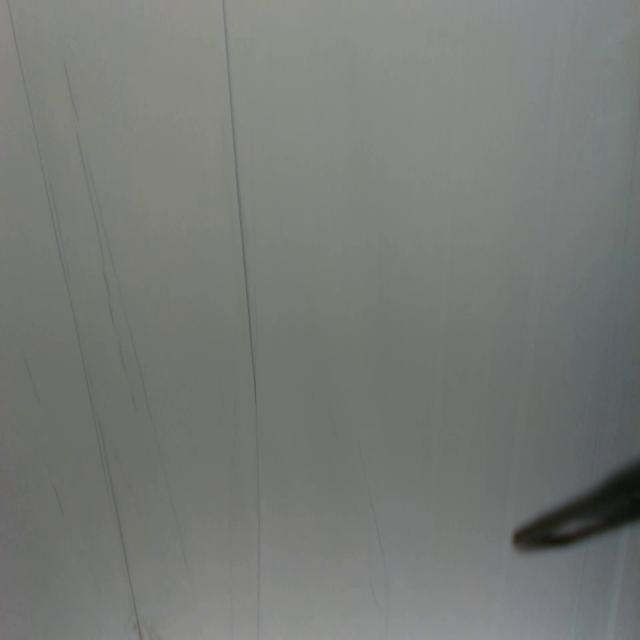crease: (6, 1, 145, 640), (59, 62, 154, 423), (220, 0, 265, 640), (353, 432, 393, 582)
